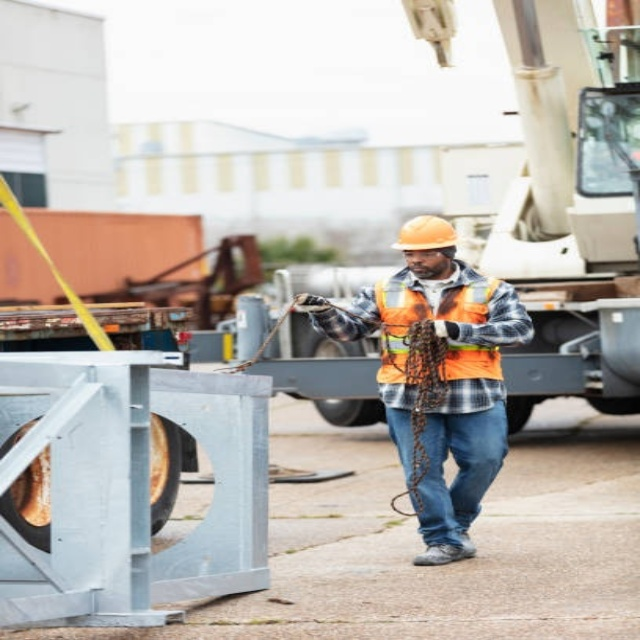Gafas: (400, 249, 442, 259)
Sin_mascara: (411, 266, 434, 275)
